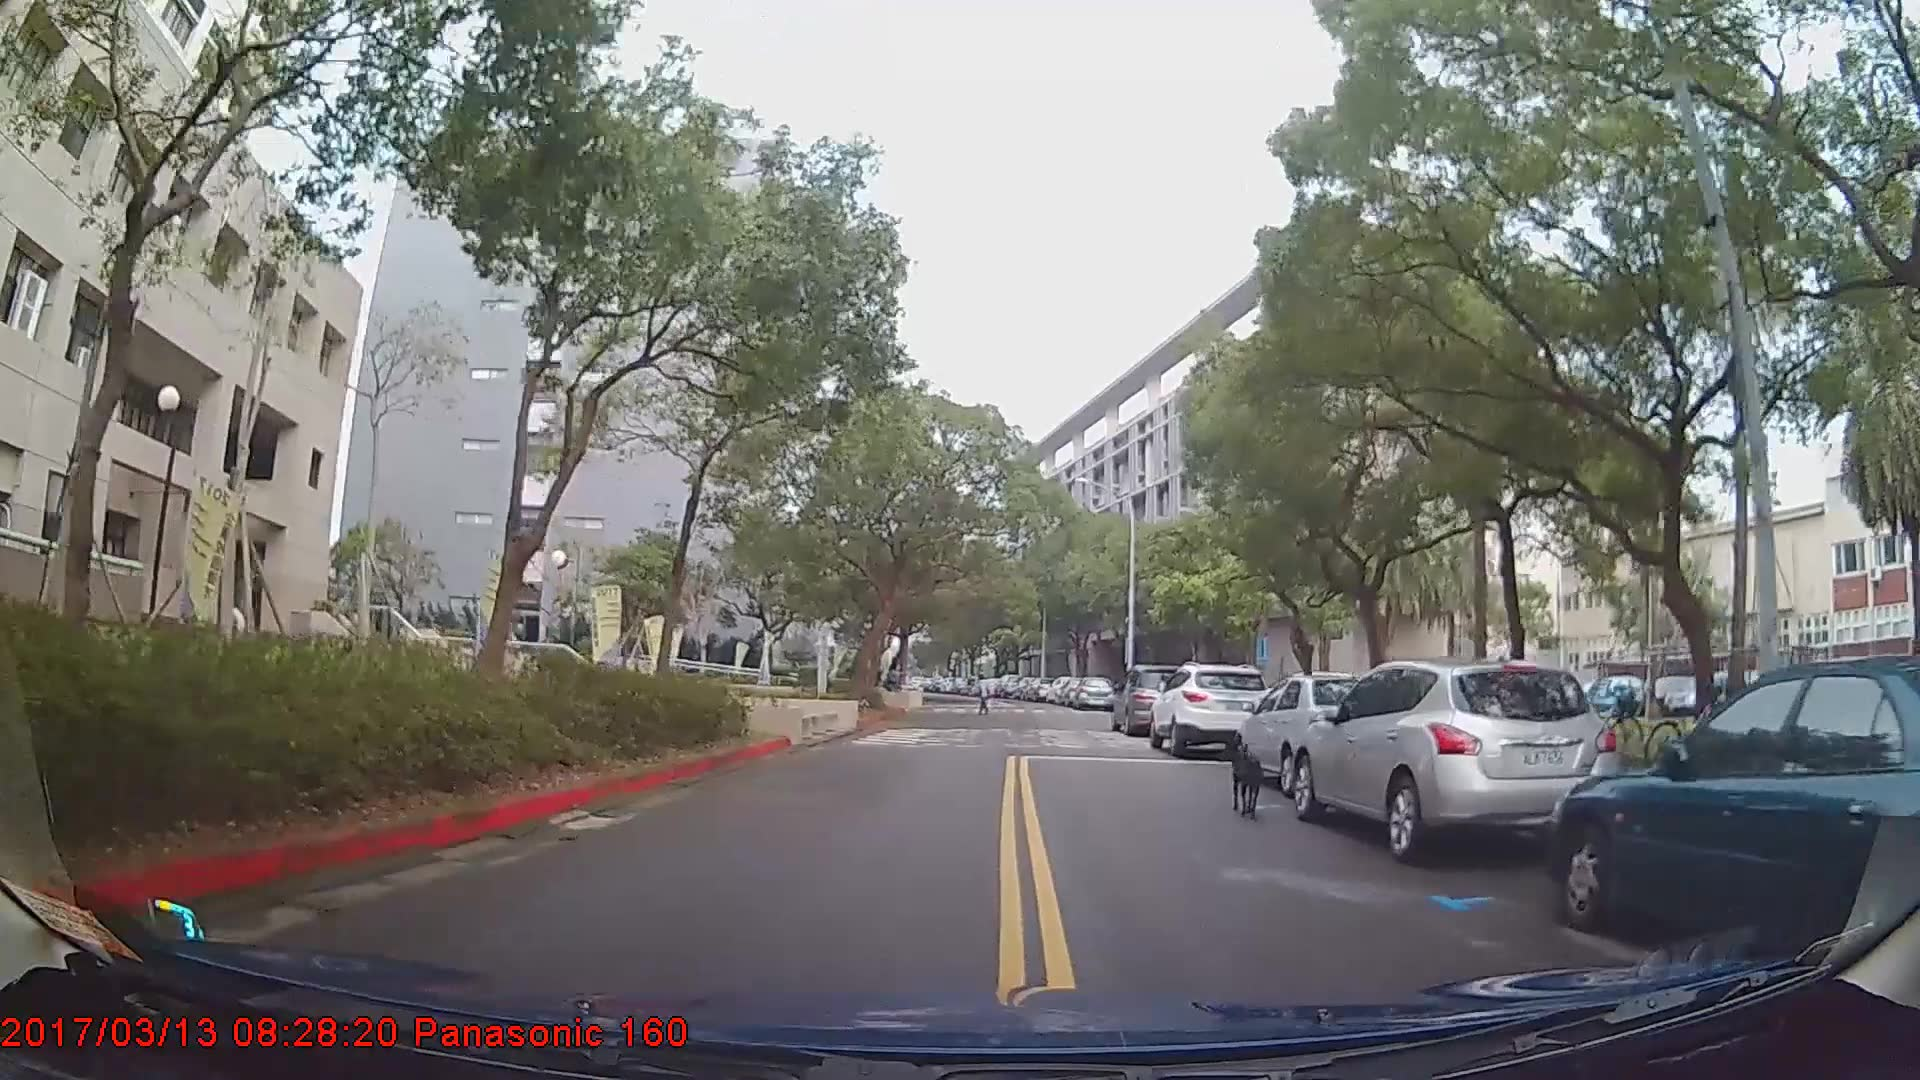pedestrian: (974, 677, 994, 718)
vehicle: (1548, 655, 1920, 964), (1298, 661, 1627, 863), (1232, 673, 1402, 801), (1150, 665, 1275, 761), (1109, 664, 1203, 736), (1073, 675, 1113, 711), (996, 671, 1023, 699)
